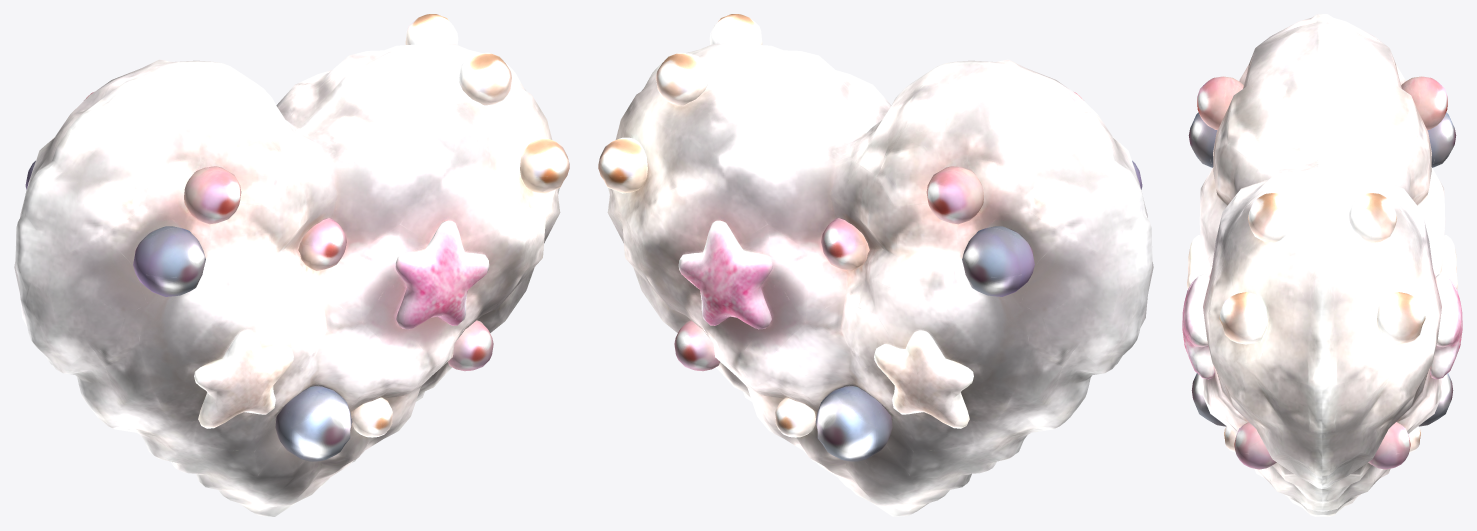
The model's file is snow360-sky-cloud-2.glb.
3 renders of one model, left to right at view 1: azimuth 30°, elevation 25°; view 2: azimuth 150°, elevation 25°; view 3: azimuth 270°, elevation 25°, orthographic. The views are drawn at different scales.
Parts seen in each view (by area): view 1: Cloud2; view 2: Cloud2; view 3: Cloud2.
Boxes of the visible parts, left/top/right/bottom form: Cloud2: left=14, top=14, right=569, bottom=516; Cloud2: left=598, top=14, right=1153, bottom=516; Cloud2: left=1182, top=14, right=1462, bottom=516.
Bounding box in the file's own units: 0.9561 × 0.7959 × 0.4572.
Materials: 1 (1 with a texture image).
